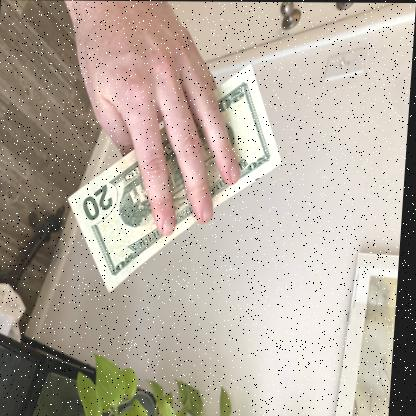twenty-back: (69, 62, 280, 293)
